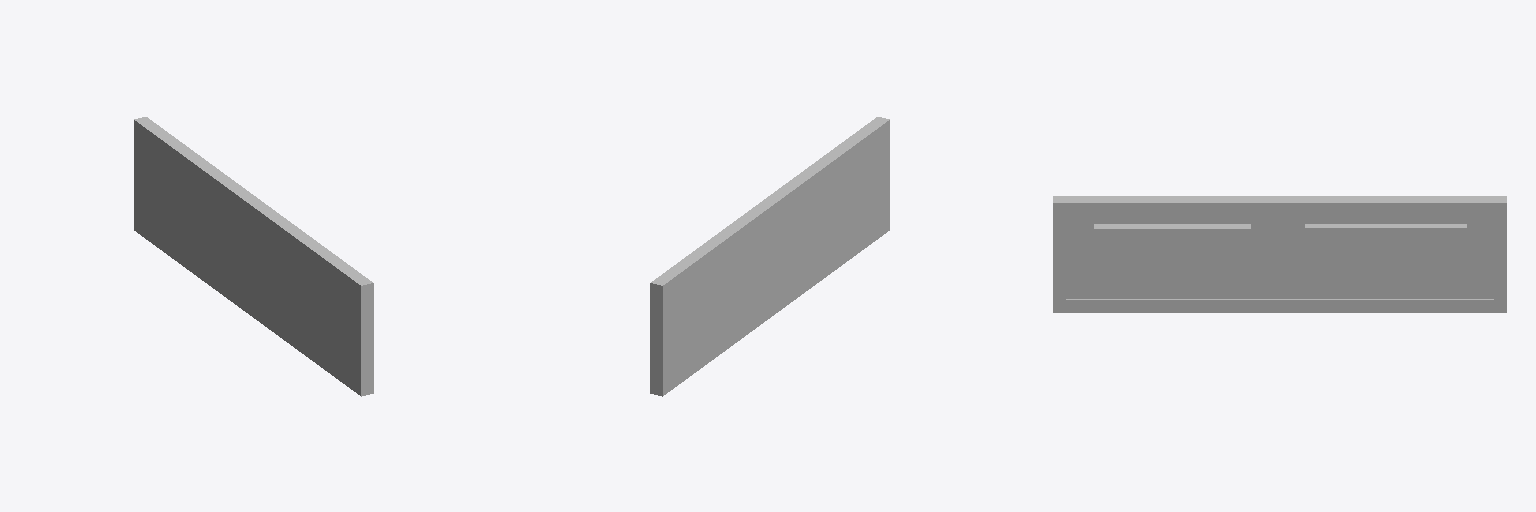
The model's file is PanelA.obj.
The picture shows the model from 3 angles: view 1: azimuth 30°, elevation 25°; view 2: azimuth 150°, elevation 25°; view 3: azimuth 270°, elevation 25°; orthographic projection.
Visible parts, largest first — view 1: Panel_Cube.006; view 2: Panel_Cube.006; view 3: Panel_Cube.006.
Part boxes in pixels (x1,y1,x2,y2): Panel_Cube.006: (134,117,373,396); Panel_Cube.006: (650,117,889,396); Panel_Cube.006: (1053,196,1506,312).
Bounding box in the file's own units: 0.2701 × 1.68 × 6.25.